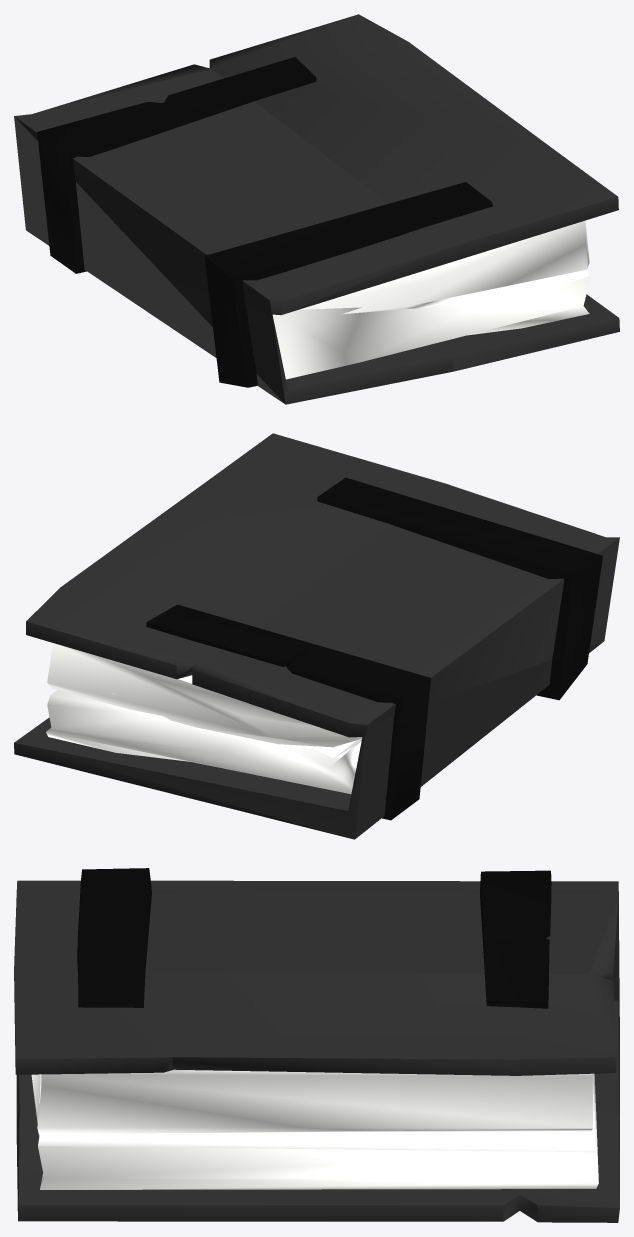
The model's file is CyberPunkGuestBookClosed.008.glb.
3 renders of one model, top to bottom at view 1: azimuth 30°, elevation 25°; view 2: azimuth 150°, elevation 25°; view 3: azimuth 270°, elevation 25°, orthographic. The views are drawn at different scales.
Visible parts, largest first — view 1: CyberPunkGuestBookClosed.008; view 2: CyberPunkGuestBookClosed.008; view 3: CyberPunkGuestBookClosed.008.
Part boxes in pixels (left/top/right/bottom): CyberPunkGuestBookClosed.008: left=14, top=14, right=619, bottom=404; CyberPunkGuestBookClosed.008: left=14, top=433, right=619, bottom=839; CyberPunkGuestBookClosed.008: left=14, top=868, right=619, bottom=1222.
Size of what is drawn, in the model's own units: 0.2654 by 0.1053 by 0.3243.
2 materials, 2 textured.
